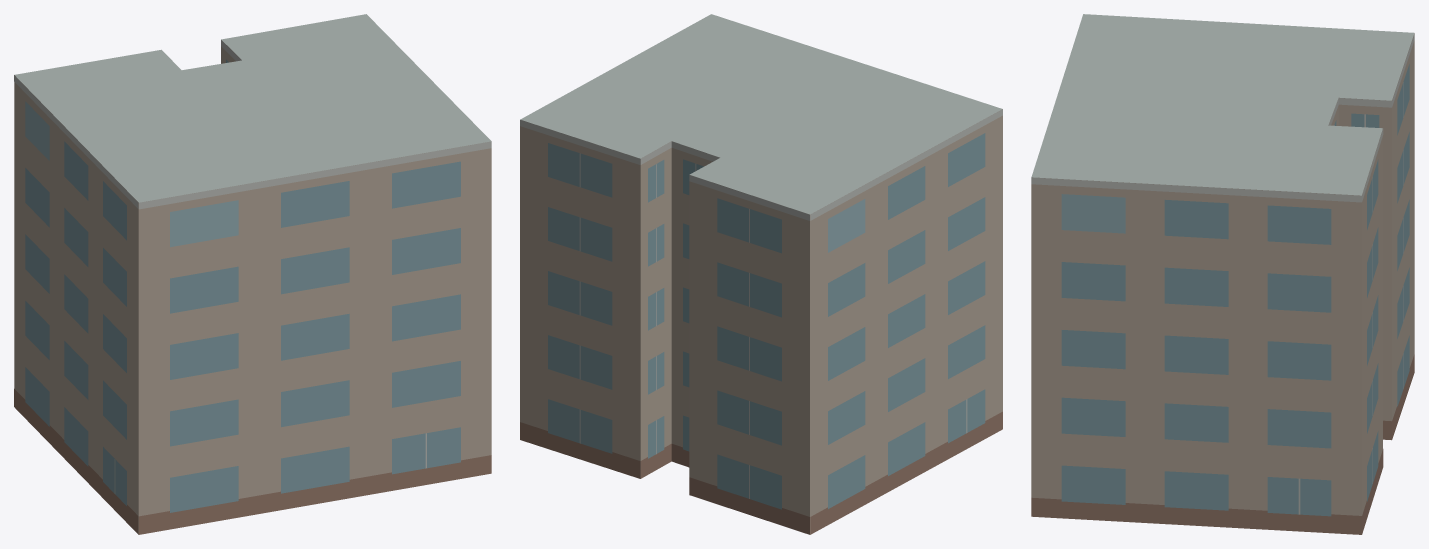
Rendered from survey-upis-32667811.glb.
3 views of the same model, side by side, from view 1: azimuth 30°, elevation 25°; view 2: azimuth 150°, elevation 25°; view 3: azimuth 270°, elevation 25° (orthographic). The views are drawn at different scales.
Visible parts, largest first — view 1: survey-upis-32667811.tmp; view 2: survey-upis-32667811.tmp; view 3: survey-upis-32667811.tmp.
Part boxes in pixels (<box>): survey-upis-32667811.tmp: <box>14,14,491,534</box>; survey-upis-32667811.tmp: <box>520,14,1002,534</box>; survey-upis-32667811.tmp: <box>1031,14,1414,534</box>.
Bounding box in the file's own units: 13.78 × 12 × 12.29.
